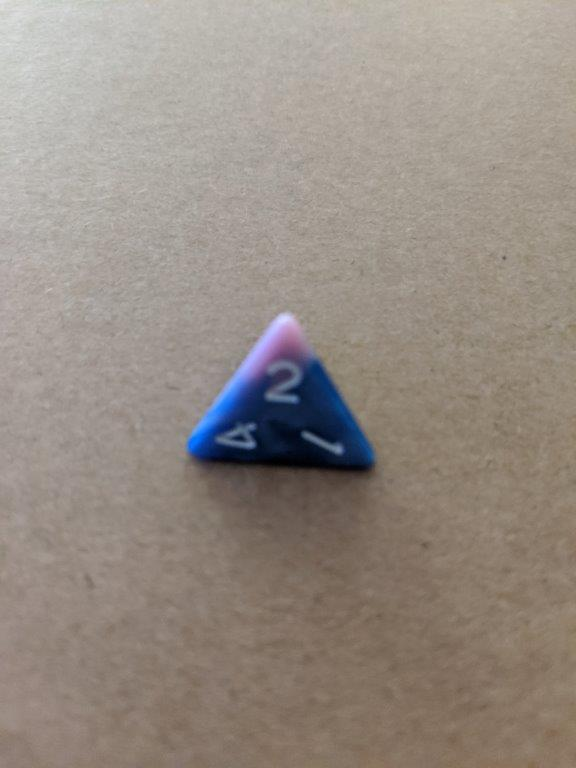d4-2: (185, 308, 384, 481)
